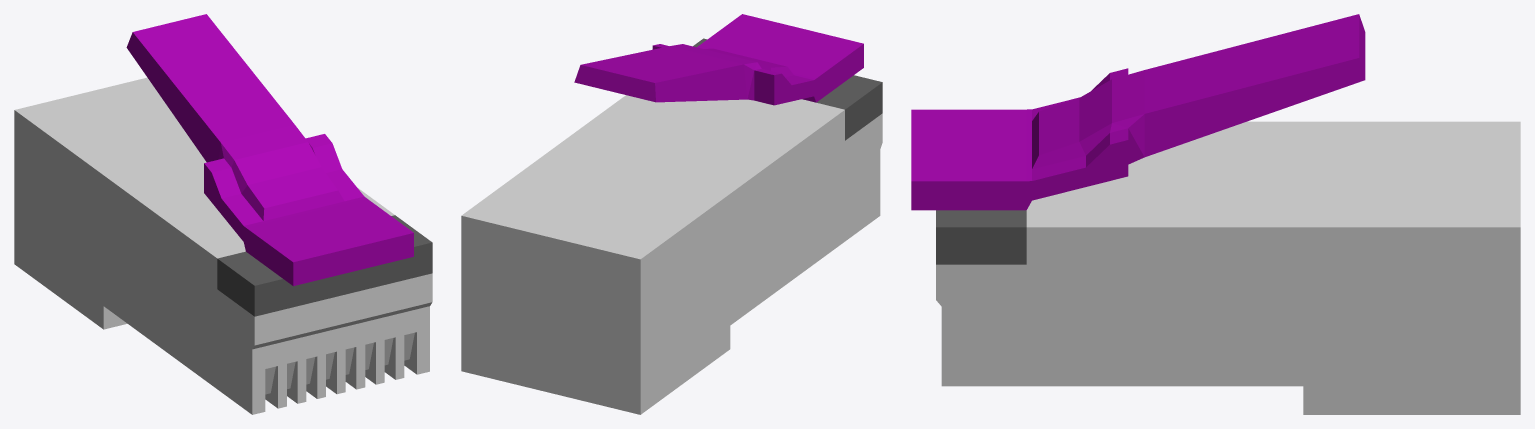
Rendered from sitovyKabel-connector.fbx.
3 renders of one model, left to right at view 1: azimuth 30°, elevation 25°; view 2: azimuth 150°, elevation 25°; view 3: azimuth 270°, elevation 25°, orthographic. The views are drawn at different scales.
Parts seen in each view (by area): view 1: Cube; view 2: Cube; view 3: Cube.
Part boxes in pixels (x1,y1,x2,y2): Cube: (14, 14, 432, 414); Cube: (461, 14, 882, 414); Cube: (911, 14, 1520, 414).
Size of the model in its own units: 0.9344 by 1.35 by 2.28.
